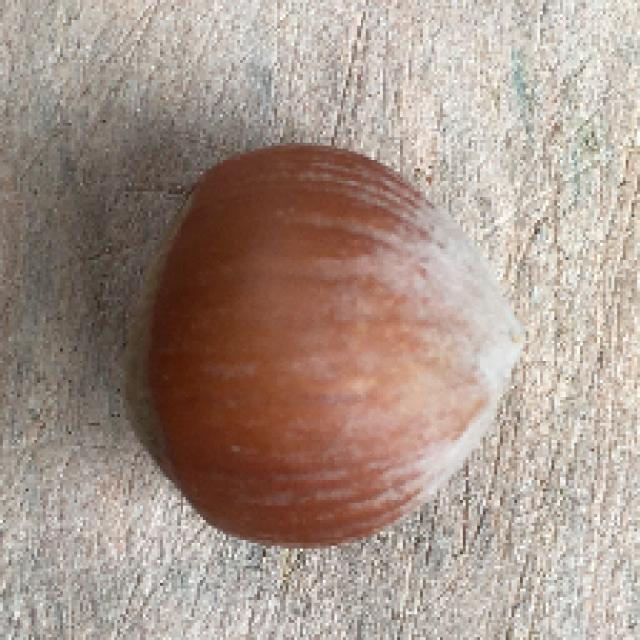qualityHazelnut: (110, 125, 524, 562)
